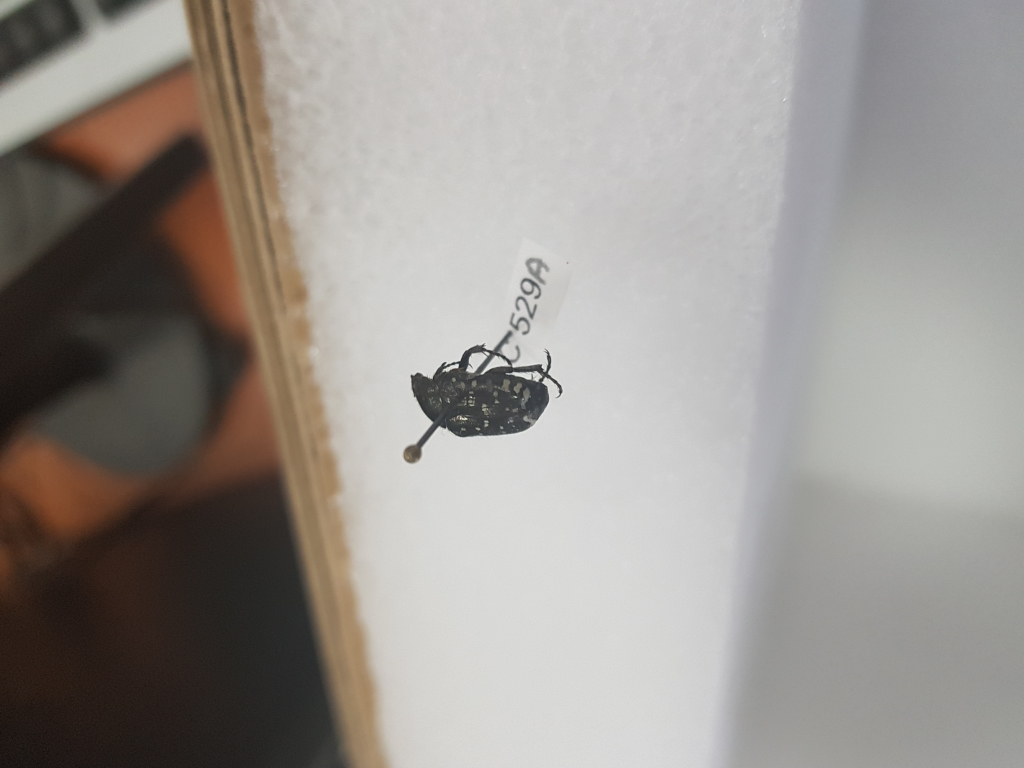Oxythyrea_funesta: (402, 343, 566, 448)
